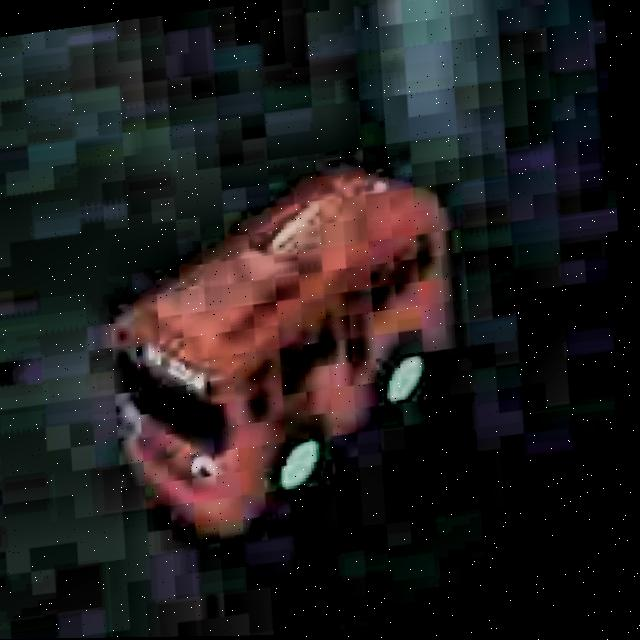bus: (65, 142, 496, 562)
